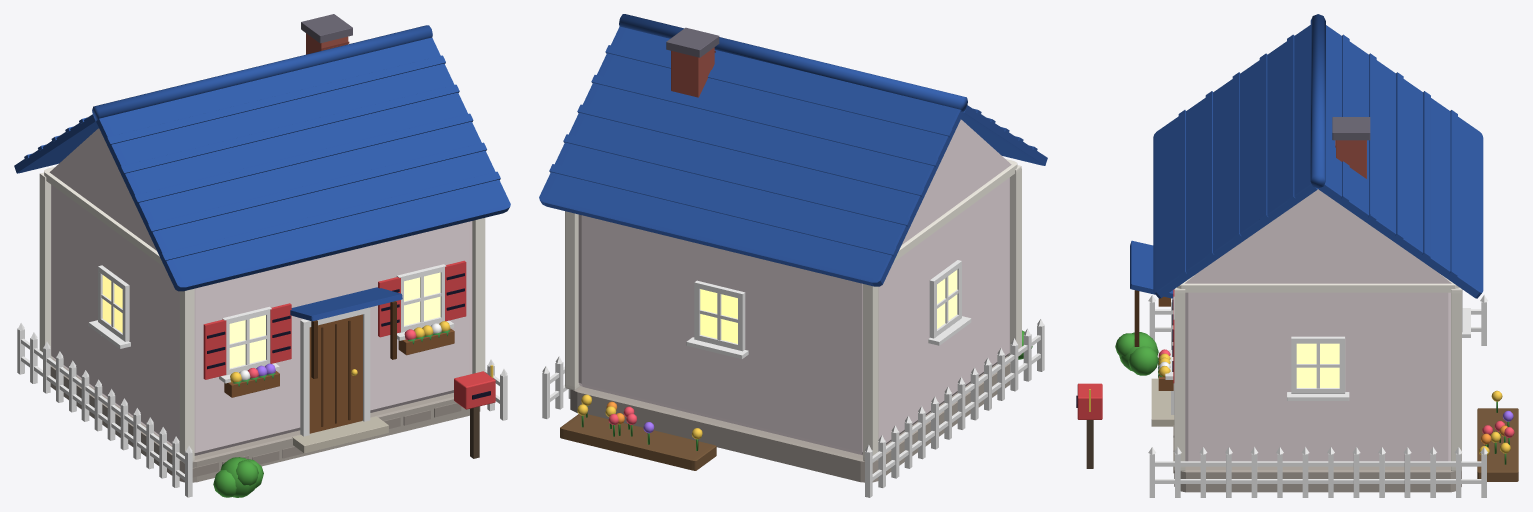
File: domek6.glb
3 renders of one model, left to right at view 1: azimuth 30°, elevation 25°; view 2: azimuth 150°, elevation 25°; view 3: azimuth 270°, elevation 25°, orthographic. The views are drawn at different scales.
Visible parts, largest first — view 1: domek6; view 2: domek6; view 3: domek6.
Part boxes in pixels (x1=…): domek6: x1=14, y1=14, x2=510, y2=497; domek6: x1=539, y1=14, x2=1047, y2=497; domek6: x1=1076, y1=14, x2=1518, y2=497.
Bounding box in the file's own units: 5.54 × 5.43 × 6.4.
2 materials, 2 textured.
